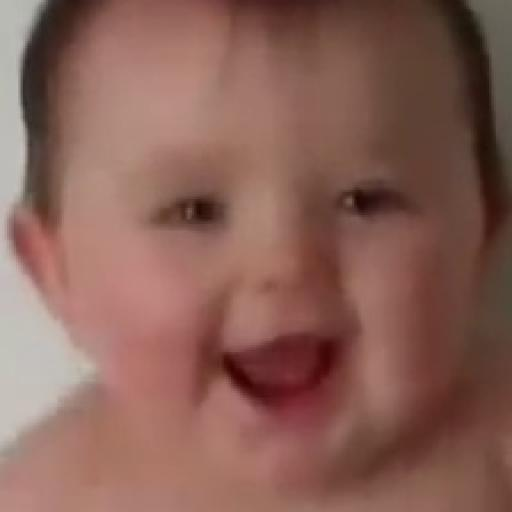Autism: (43, 20, 512, 487)
